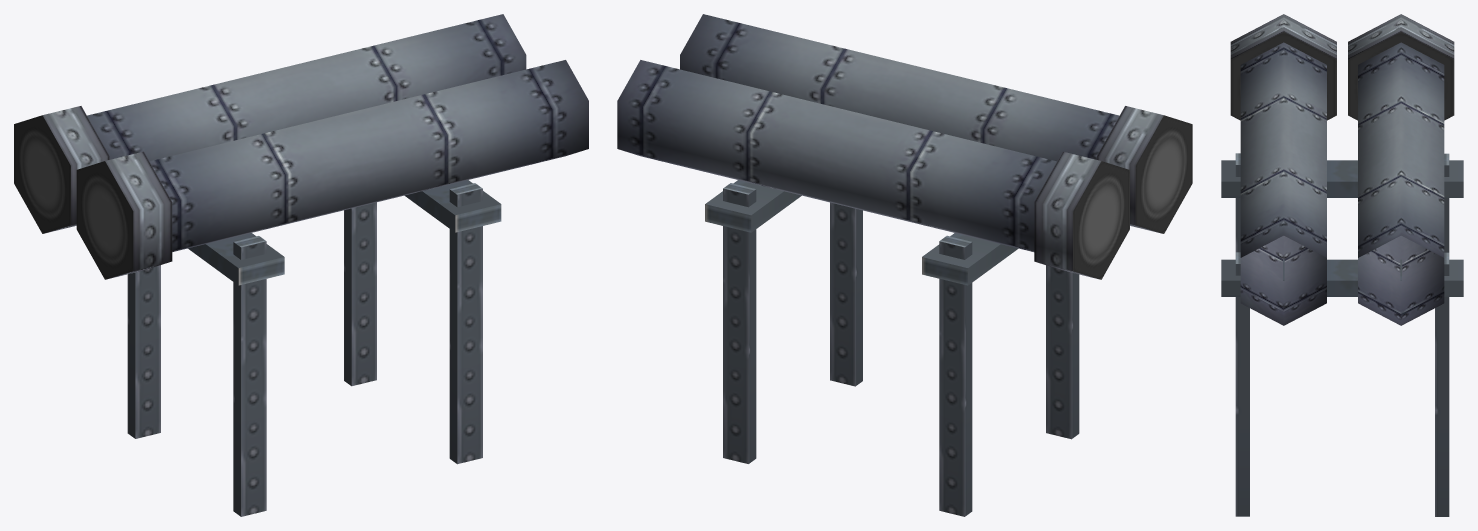
The model's file is Pipe1A.fbx.
3 views of the same model, side by side, from view 1: azimuth 30°, elevation 25°; view 2: azimuth 150°, elevation 25°; view 3: azimuth 270°, elevation 25° (orthographic). The views are drawn at different scales.
Visible parts, largest first — view 1: polySurface1584; view 2: polySurface1584; view 3: polySurface1584.
Part boxes in pixels (x1,y1,x2,y2): polySurface1584: (14,14,588,516); polySurface1584: (617,14,1192,516); polySurface1584: (1221,14,1463,516).
Size of the model in its own units: 6.3 by 4.75 by 3.06.
